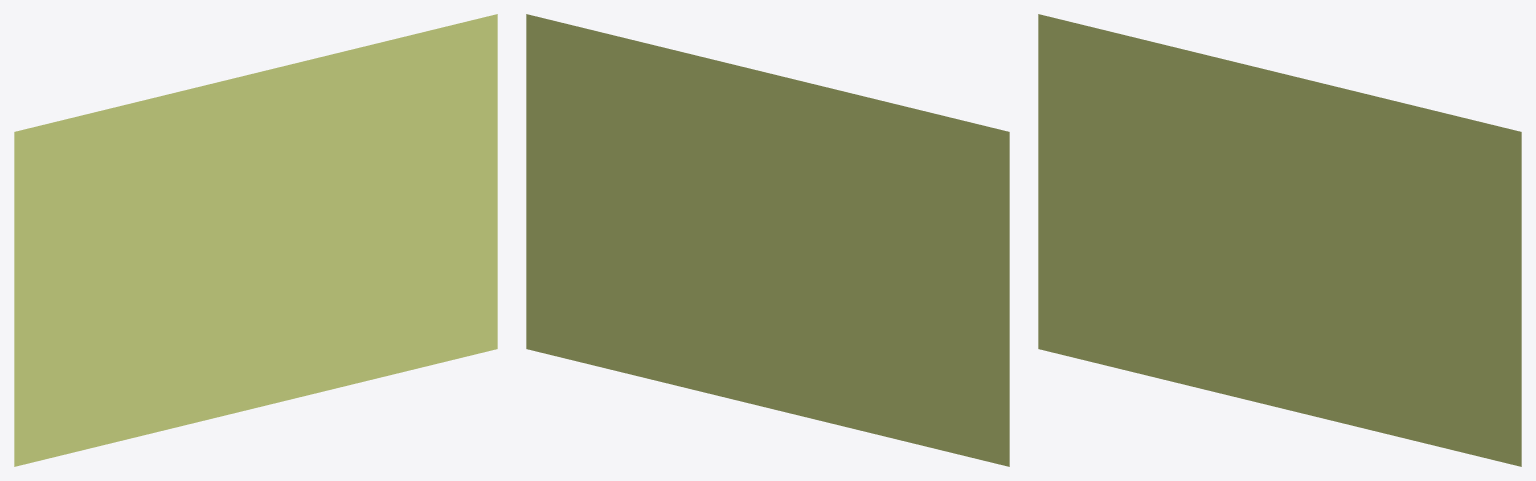
The model's file is paret.FBX.
3 views of the same model, side by side, from view 1: azimuth 30°, elevation 25°; view 2: azimuth 150°, elevation 25°; view 3: azimuth 330°, elevation 25° (orthographic).
Parts seen in each view (by area): view 1: paret_low; view 2: paret_low; view 3: paret_low.
Part boxes in pixels (box(x1,y1,x2,y2)): paret_low: box(14, 14, 497, 466); paret_low: box(526, 14, 1009, 466); paret_low: box(1038, 14, 1521, 466).
Bounding box in the file's own units: 163 × 108 × 4.39e-06.
